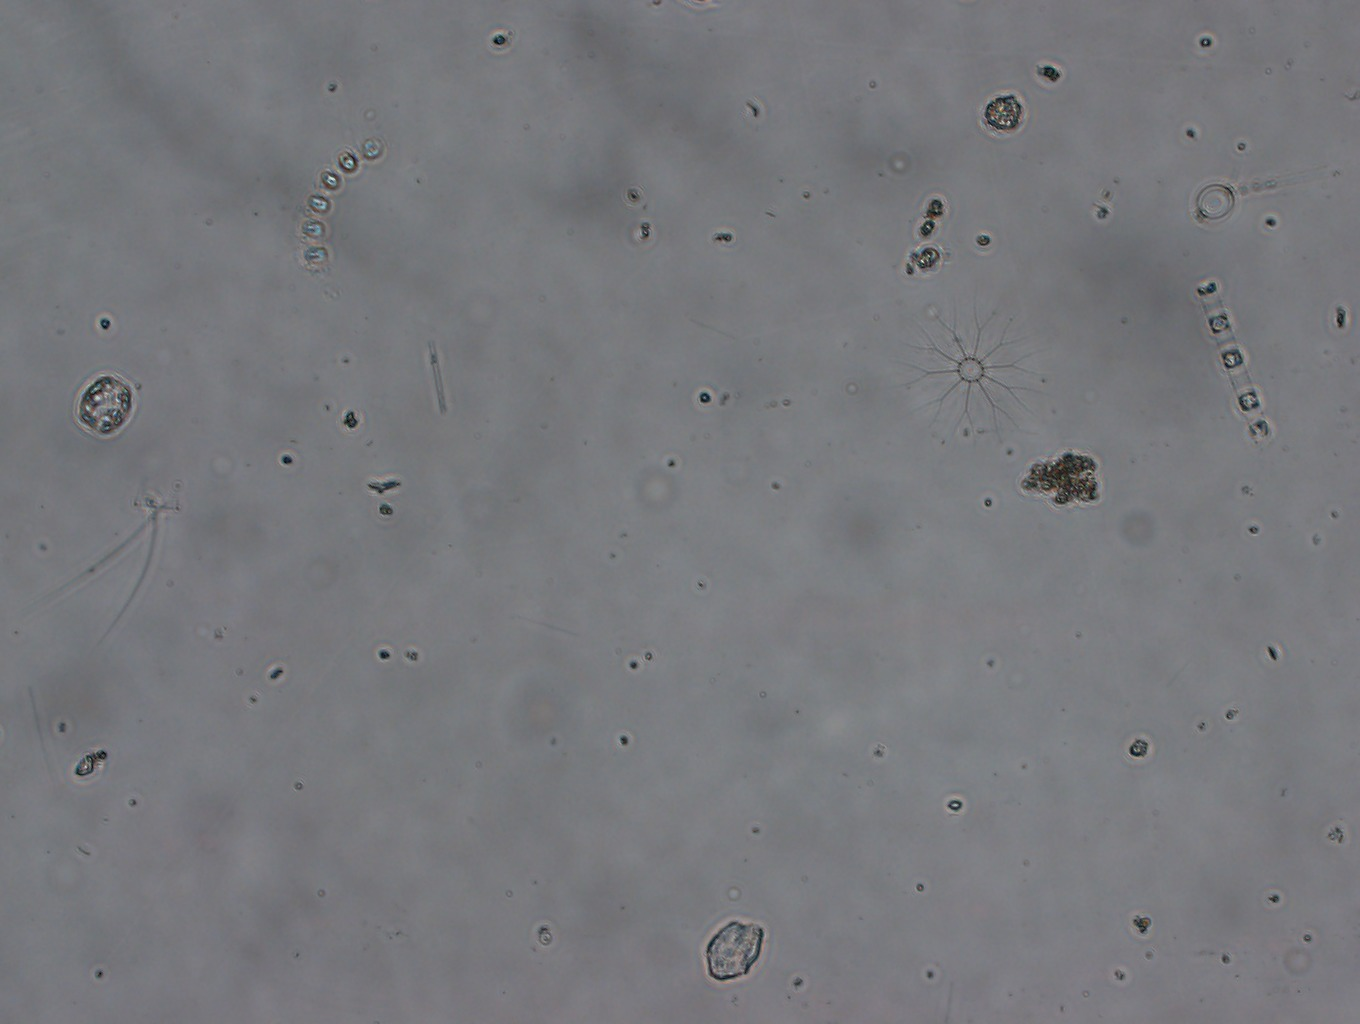bacteriastrum: (898, 299, 1043, 449)
skeletonema: (297, 132, 386, 300), (1194, 275, 1274, 447)
